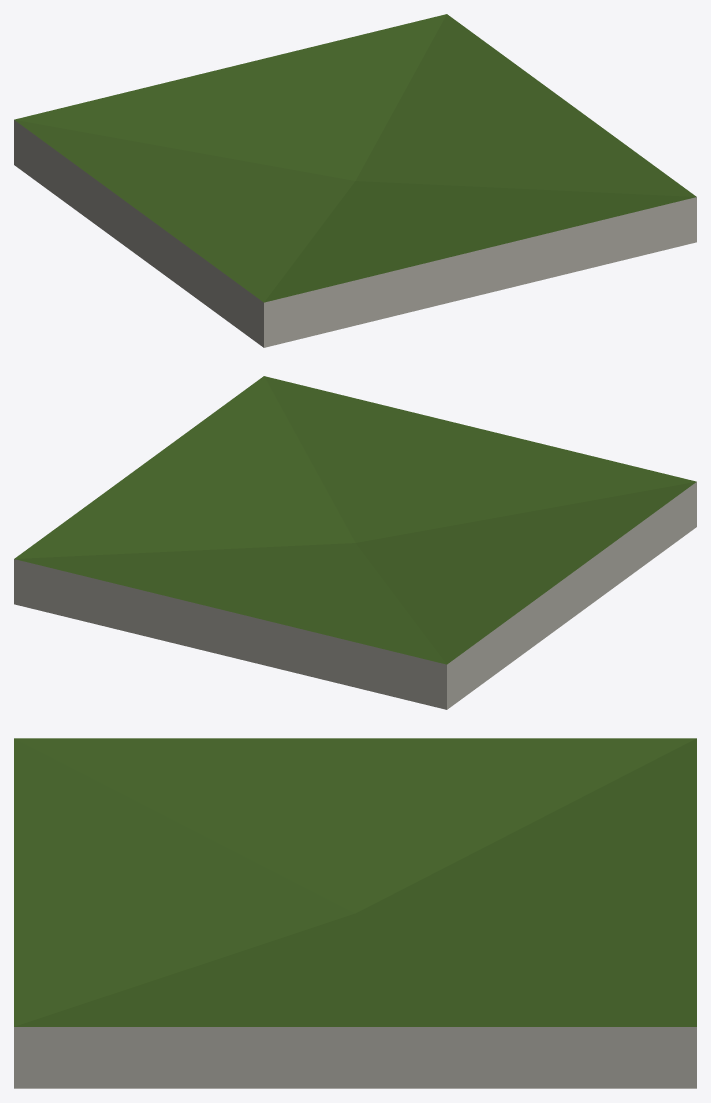
File: Terrain_Modular_Tiles_Grass_Rock_Divot_01.fbx
The picture shows the model from 3 angles, top to bottom: view 1: azimuth 30°, elevation 25°; view 2: azimuth 150°, elevation 25°; view 3: azimuth 270°, elevation 25°; orthographic projection. The views are drawn at different scales.
Visible parts, largest first — view 1: Terrain_Modular_Tiles_Grass_Rock_Divot_01; view 2: Terrain_Modular_Tiles_Grass_Rock_Divot_01; view 3: Terrain_Modular_Tiles_Grass_Rock_Divot_01.
Part boxes in pixels (x1=…): Terrain_Modular_Tiles_Grass_Rock_Divot_01: x1=14, y1=14, x2=696, y2=347; Terrain_Modular_Tiles_Grass_Rock_Divot_01: x1=14, y1=376, x2=696, y2=709; Terrain_Modular_Tiles_Grass_Rock_Divot_01: x1=14, y1=738, x2=696, y2=1088.
Size of the model in its own units: 3000 by 300 by 3000.
